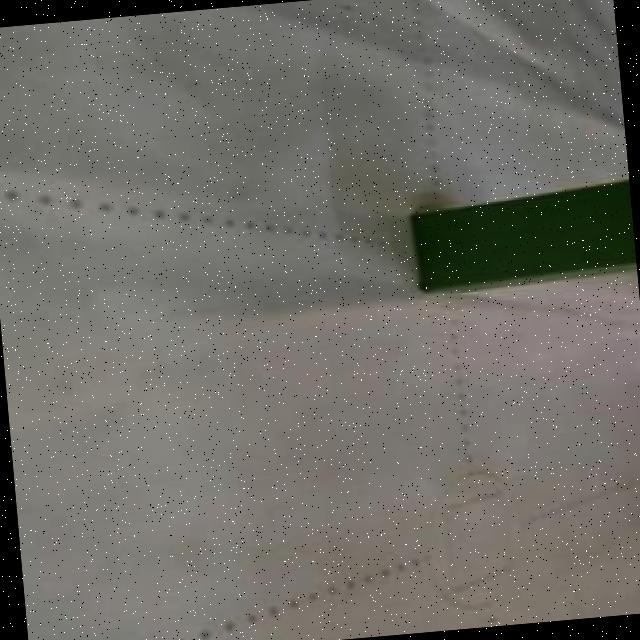greenbox: (408, 175, 638, 296)
